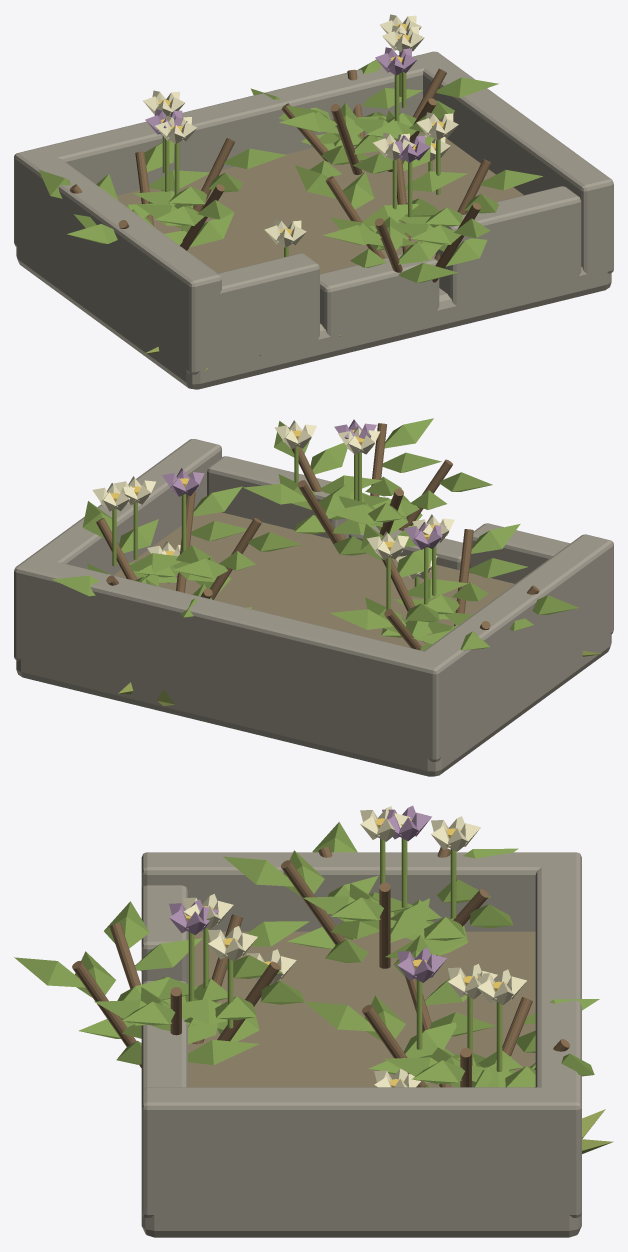
File: Cracked_Planter_Flourishing.glb
The picture shows the model from 3 angles, top to bottom: view 1: azimuth 30°, elevation 25°; view 2: azimuth 150°, elevation 25°; view 3: azimuth 270°, elevation 25°; orthographic projection. The views are drawn at different scales.
Parts seen in each view (by area): view 1: Support, Growth; view 2: Support, Growth; view 3: Support, Growth.
Boxes of the visible parts, <box> form: Support: <box>14,51,613,389</box>; Growth: <box>39,14,542,371</box>; Support: <box>14,439,613,776</box>; Growth: <box>52,418,601,705</box>; Support: <box>141,852,581,1237</box>; Growth: <box>14,805,613,1153</box>.
Size of the model in its own units: 2.87 by 1.07 by 2.59.
